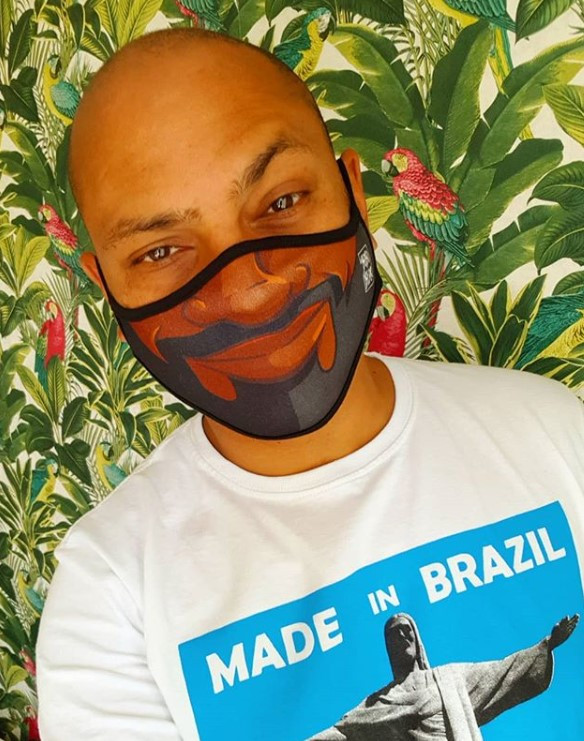face_with_mask: (69, 28, 381, 442)
